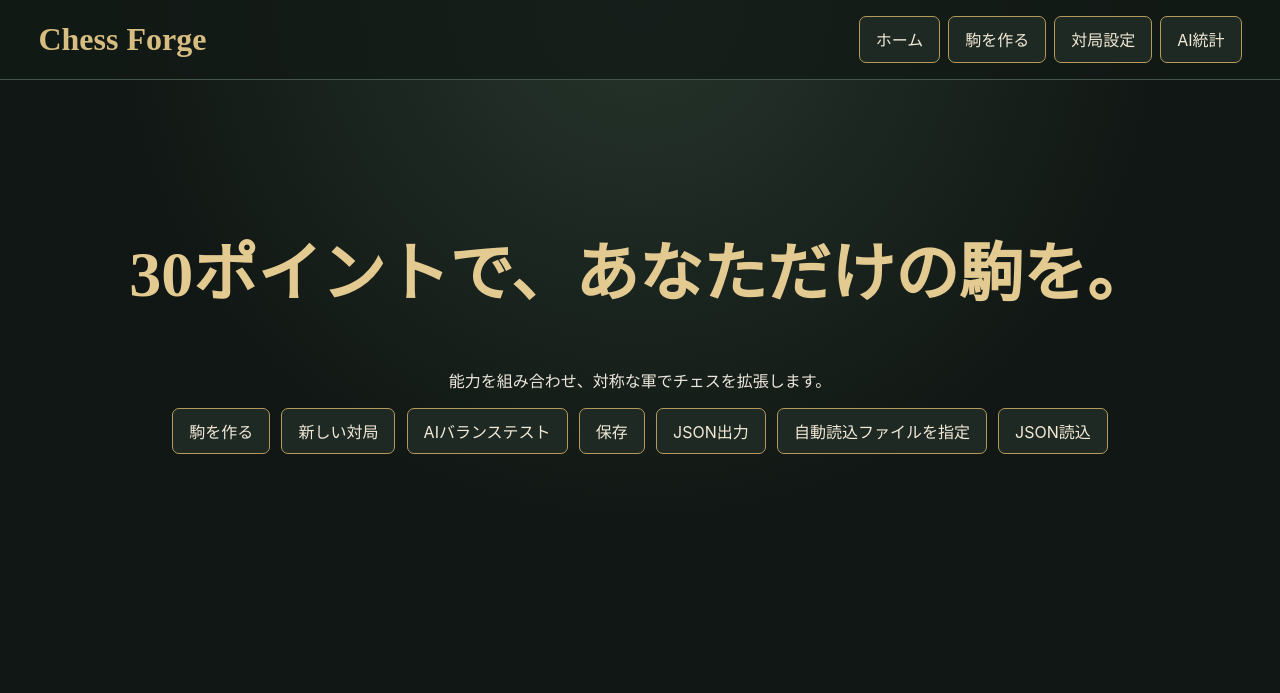
Test: App › shows reserved and available two-letter symbols
The image size is (1280, 693).
Click the button "駒を作る" in the row of "Chess Forge" at (997, 39), box [948, 16, 1046, 63]
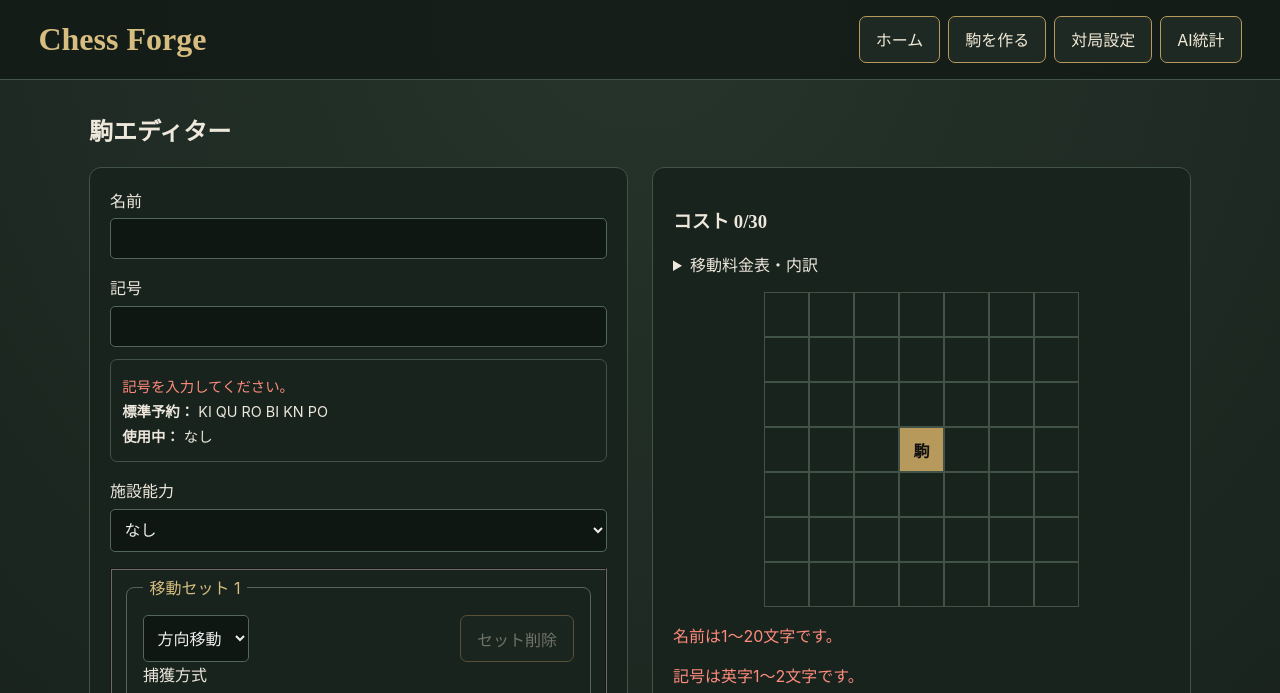
Type "kn" into the field labelled "記号" at (358, 326), box [110, 306, 607, 347]
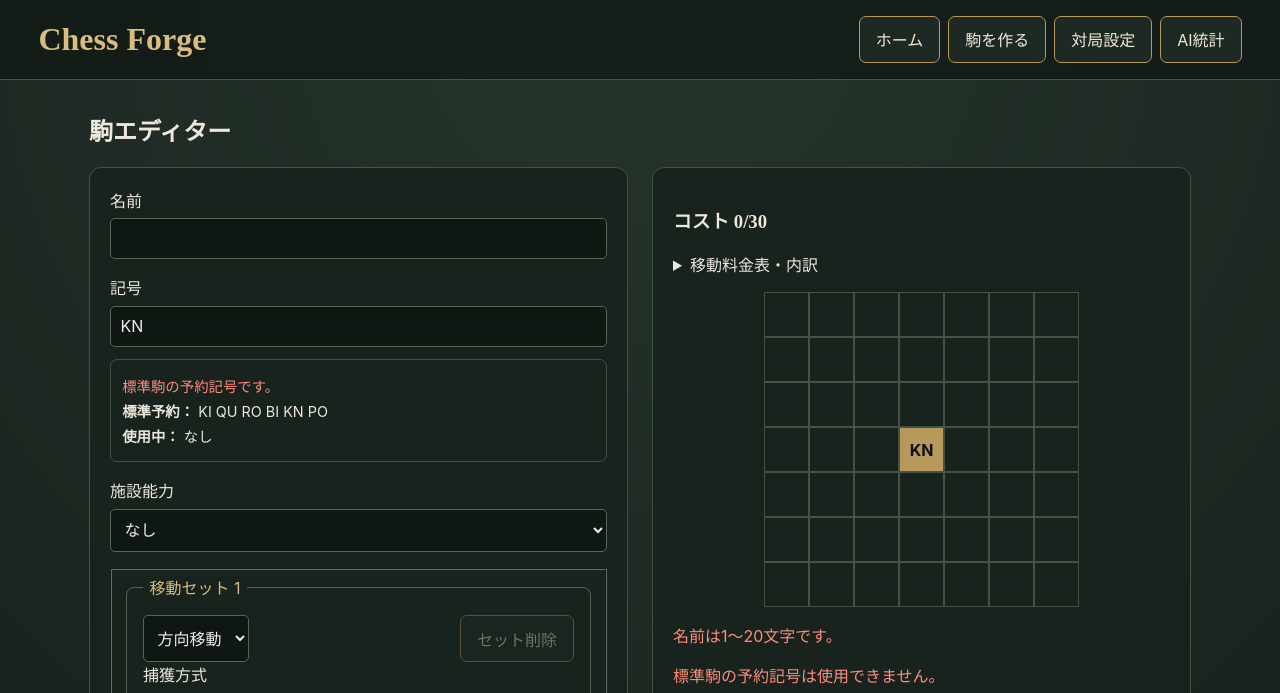
expect the text "標準駒の予約記号です。" is shown: met, box [122, 378, 279, 395]
Replace the text in the field labelled "記号" with "dr" at (358, 326), box [110, 306, 607, 347]
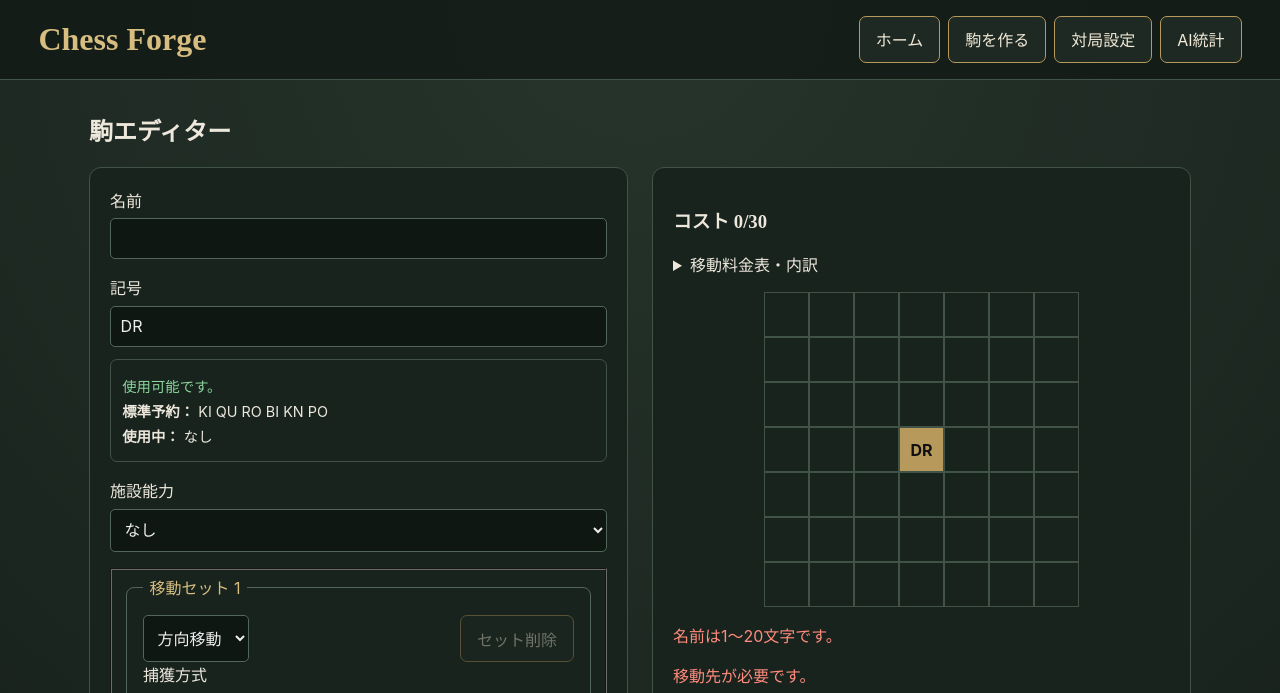
expect the text "標準予約： KI QU RO BI KN PO" is shown: met, box [122, 403, 328, 420]
expect the text "使用可能です。" is shown: met, box [122, 378, 222, 395]
